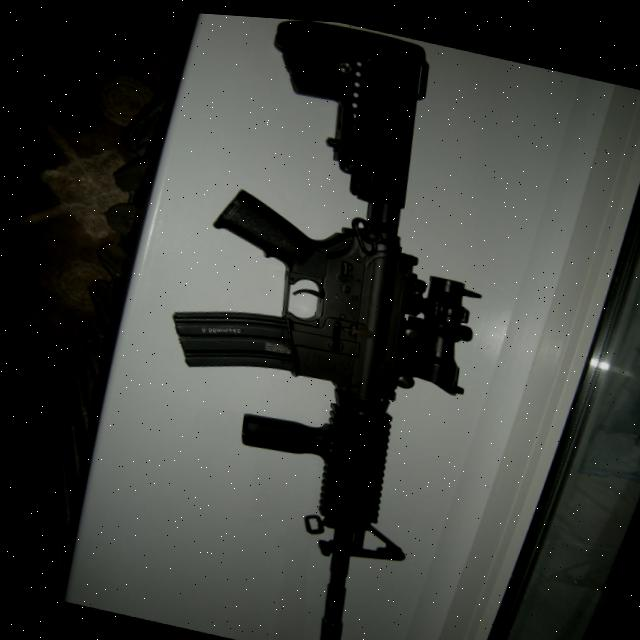firearm: (110, 6, 528, 640)
